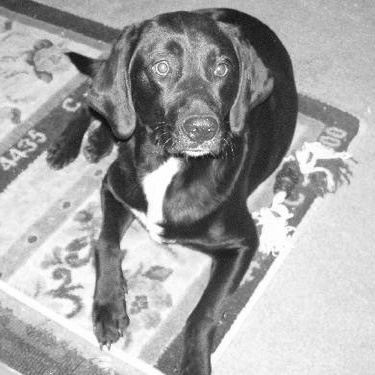dog: (40, 8, 299, 373)
